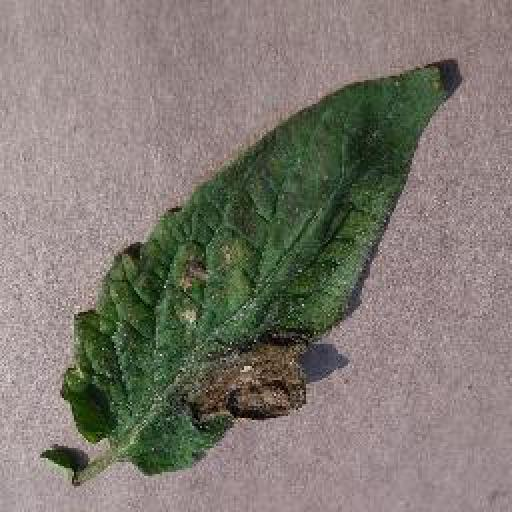Late Blight: (61, 54, 451, 478)
